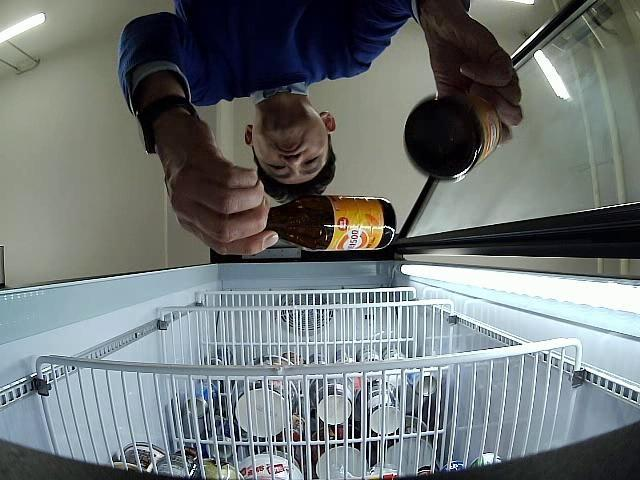17_vita500: (404, 93, 500, 181), (268, 193, 394, 250)
